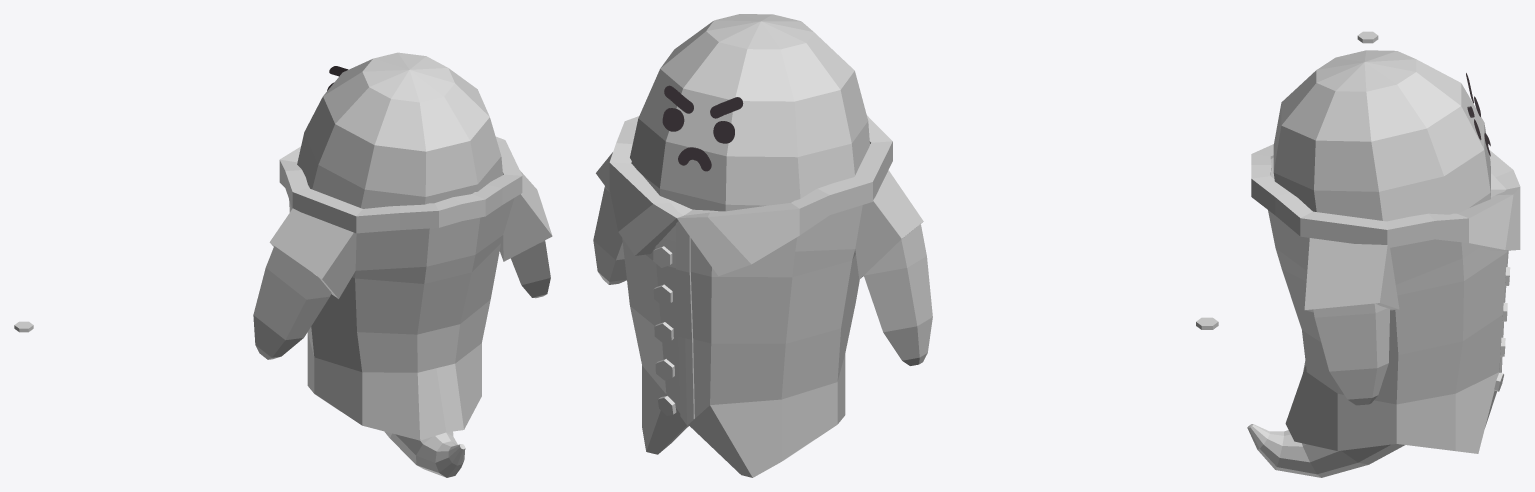
The model's file is ghost_pose.fbx.
3 views of the same model, side by side, from view 1: azimuth 30°, elevation 25°; view 2: azimuth 150°, elevation 25°; view 3: azimuth 270°, elevation 25° (orthographic). The views are drawn at different scales.
Parts seen in each view (by area): view 1: Body; view 2: Body; view 3: Body.
Boxes of the visible parts, x1,y1,x2,y2 form: Body: [253, 52, 552, 477]; Body: [593, 14, 932, 477]; Body: [1247, 50, 1520, 477].
Bounding box in the file's own units: 656 × 461 × 272.
